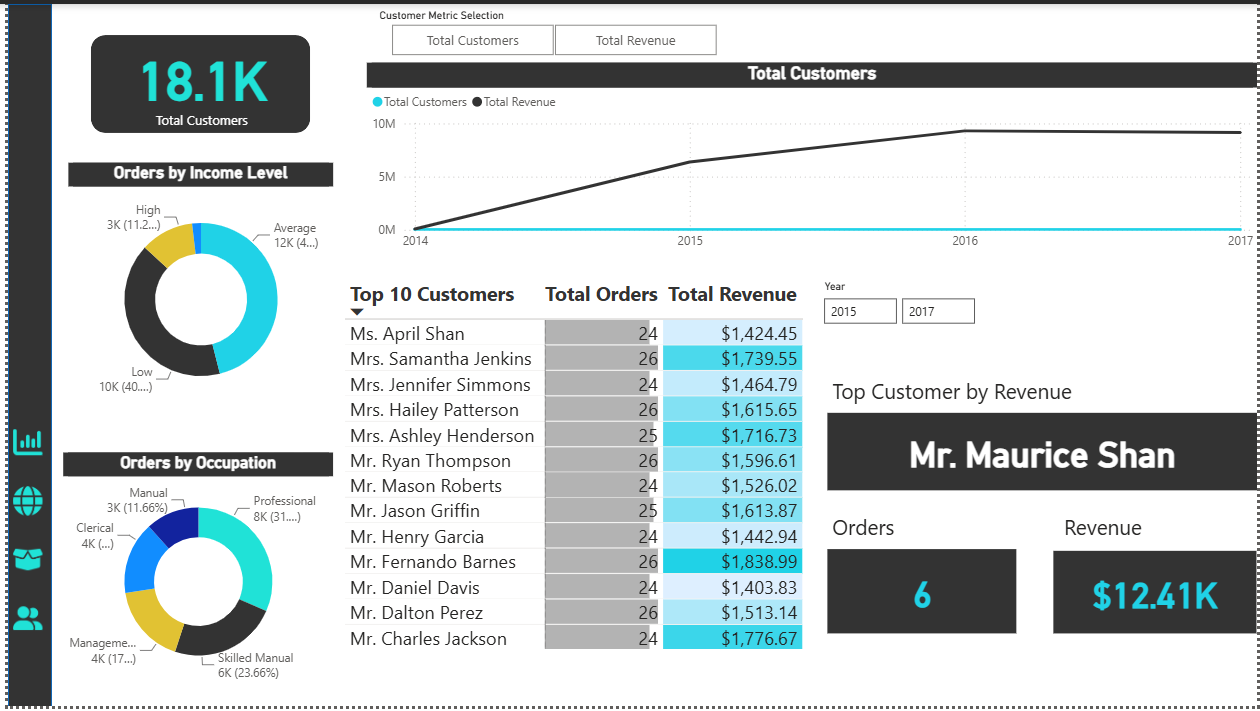

The dashboard page shown, as its layout file describes it:
{"tool":"powerbi","page":{"name":"Customers Details","canvas":[1280,720],"ordinal":3},"visuals":[{"type":"shape","title":"Left Nav Background","box":[0,0,45,720.9],"z":0},{"type":"image","box":[0,600.4,40.2,60.2],"z":0,"group":"g1"},{"type":"lineChart","fields":{"Category":["AW_Calendar_Lookup.Start of Week.Variation.Date Hierarchy.Year","AW_Calendar_Lookup.Start of Week.Variation.Date Hierarchy.Quarter","AW_Calendar_Lookup.Start of Week.Variation.Date Hierarchy.Month","AW_Calendar_Lookup.Start of Week.Variation.Date Hierarchy.Day"],"Y":["AW_Customers_Lookup.Total Customers","AW_Sales.Total Revenue"]},"box":[367.3,59.4,912.7,201.2],"z":1000},{"type":"image","box":[0,540.2,40.2,60.2],"z":1000,"group":"g1"},{"type":"card","fields":{"Values":["AW_Customers_Lookup.Total Customers"]},"box":[44.2,0,283.2,162.7],"z":2000},{"type":"image","box":[0,419.7,40.2,60.2],"z":2000,"group":"g1"},{"type":"shape","box":[84.3,32.1,224.9,100.4],"z":3000},{"type":"image","box":[0,479.9,40.2,60.2],"z":3000,"group":"g1"},{"type":"card","fields":{"Values":["AW_Customers_Lookup.Total Customers"]},"box":[56.4,0,283.8,162.1],"z":4000},{"type":"donutChart","title":"Orders by Income Level","fields":{"Category":["AW_Customers_Lookup.Income Level"],"Y":["AW_Sales.Total Orders"]},"box":[61.7,162.1,271.4,260.8],"z":5000},{"type":"donutChart","title":"Orders by Occupation","fields":{"Category":["AW_Customers_Lookup.Occupation"],"Y":["AW_Sales.Total Orders"]},"box":[56.4,460,276.7,245],"z":6000},{"type":"tableEx","fields":{"Values":["AW_Customers_Lookup.Full Name","AW_Sales.Total Orders","AW_Sales.Total Revenue"]},"box":[340.2,276.7,482.9,444.1],"z":7000},{"type":"card","fields":{"Values":["Min(AW_Customers_Lookup.Full Name)"]},"box":[838.9,419.5,440.6,79.3],"z":8000},{"type":"card","fields":{"Values":["AW_Sales.Total Orders"]},"box":[838.9,558.7,193.9,86.4],"z":9000},{"type":"card","fields":{"Values":["AW_Sales.Total Revenue"]},"box":[1071.6,560.5,208,84.6],"z":10000},{"type":"textbox","box":[838.9,377.2,440.6,42.3],"z":11000},{"type":"textbox","box":[838.9,516.4,193.9,42.3],"z":12000},{"type":"textbox","box":[1071.6,516.4,174.5,44.1],"z":13000},{"type":"slicer","fields":{"Values":["AW_Calendar_Lookup.Date.Variation.Date Hierarchy.Year"]},"box":[823.1,276.7,456.5,82.8],"z":14000},{"type":"group","id":"g1","title":"Navigation Buttons","box":[0,419.7,40.2,241],"z":16000},{"type":"slicer","fields":{"Values":["Customer Metric Selection.Customer Metric Selection"]},"box":[367.3,0,382.1,59.4],"z":18000}]}

Visuals, with their boxes in screenshot pixels (x1, y1, x2, y2), scaled from the page's 1280x720 canvas onto the 1260x711 screenshot:
"Left Nav Background" shape: 0, 0, 44, 710
image: 0, 593, 40, 652
lineChart - AW_Calendar_Lookup.Start of Week.Variation.Date Hierarchy.Year x AW_Calendar_Lookup.Start of Week.Variation.Date Hierarchy.Quarter: 362, 59, 1259, 257
image: 0, 533, 40, 593
card - AW_Customers_Lookup.Total Customers: 44, 0, 322, 161
image: 0, 414, 40, 474
shape: 83, 32, 304, 131
image: 0, 474, 40, 533
card - AW_Customers_Lookup.Total Customers: 56, 0, 335, 160
"Orders by Income Level" donutChart: 61, 160, 328, 418
"Orders by Occupation" donutChart: 56, 454, 328, 696
tableEx - AW_Customers_Lookup.Full Name x AW_Sales.Total Orders: 335, 273, 810, 710
card - Min(AW_Customers_Lookup.Full Name): 826, 414, 1259, 493
card - AW_Sales.Total Orders: 826, 552, 1017, 637
card - AW_Sales.Total Revenue: 1055, 553, 1259, 637
textbox: 826, 372, 1259, 414
textbox: 826, 510, 1017, 552
textbox: 1055, 510, 1227, 553
slicer - AW_Calendar_Lookup.Date.Variation.Date Hierarchy.Year: 810, 273, 1259, 355
"Navigation Buttons" group: 0, 414, 40, 652
slicer - Customer Metric Selection.Customer Metric Selection: 362, 0, 738, 59
